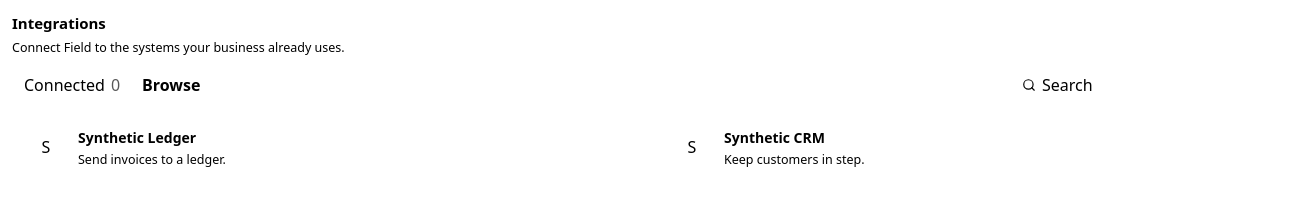
Test: Integrations catalogue › search filters by name and description, and says when nothing matches
The image size is (1304, 201).
Type "customers" into the search field named "Search integrations" at (1152, 85), box [1012,69,1292,101]
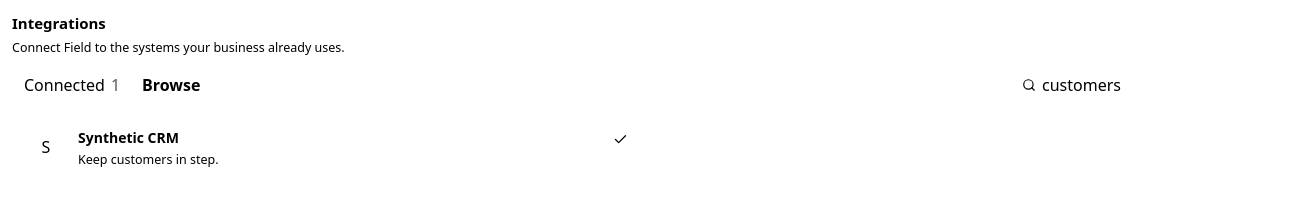
Expected: the text "Synthetic CRM" is shown, [78,128,179,147]
Expected: the number of list items is 1, [12,113,646,184]
Replace the text in the search field named "Search integrations" with "nothing like this" at (1152, 85), box [1012,69,1292,101]
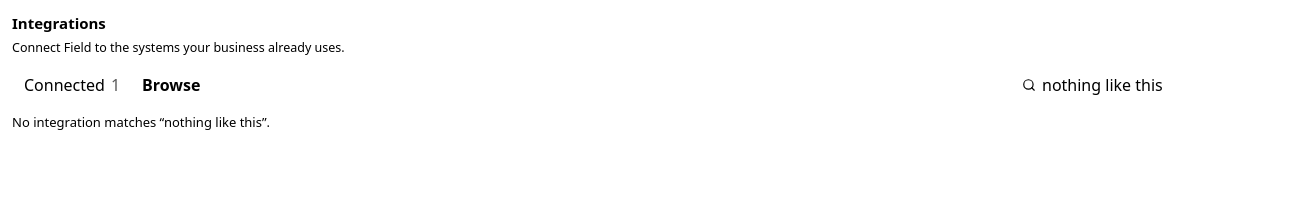
Expected: no list items are shown
Expected: the text "No integration matches “nothing like this”." is shown, [12,113,270,131]
